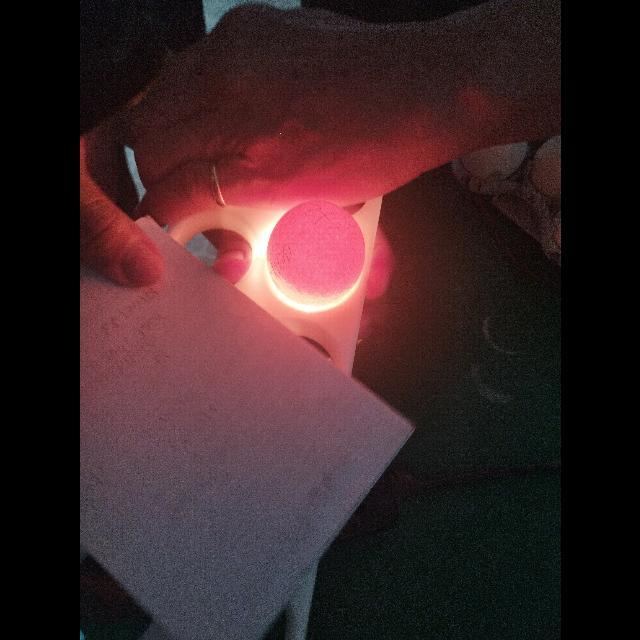Infertile: (265, 204, 365, 302)
